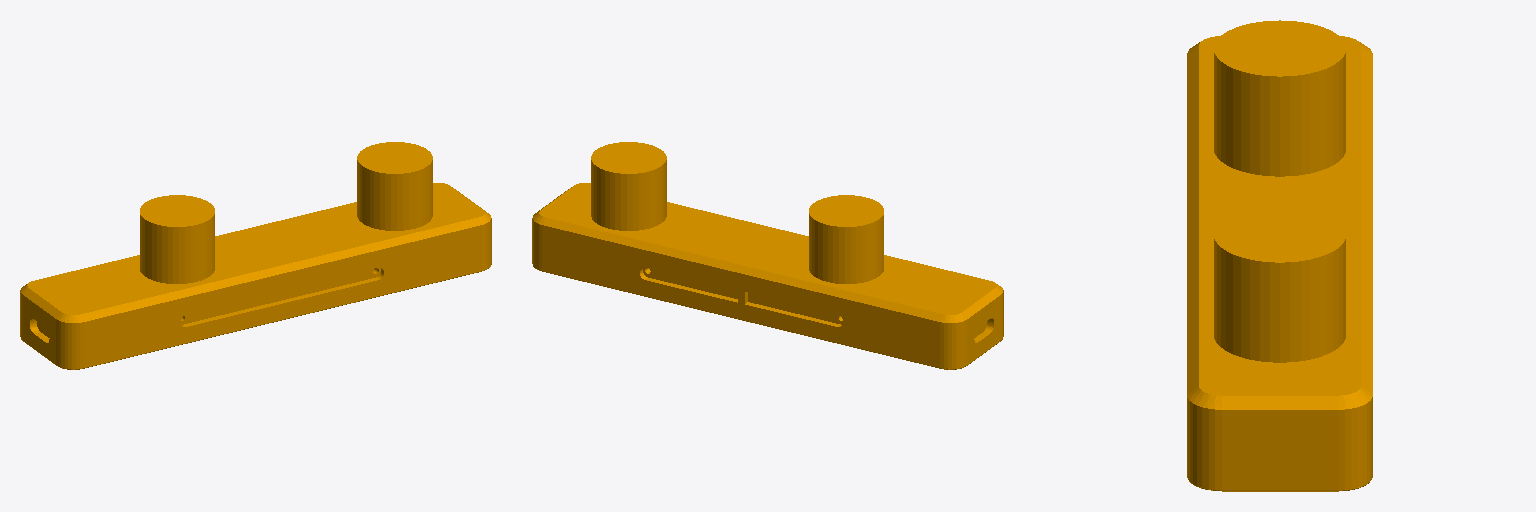
URDF robot description (zed_camera):
<?xml version="1.0" encoding="utf-8"?>

<robot name="zed_camera">
    <link name="zed_camera">
        <visual>
            <origin rpy="1.57079 0 0" xyz="0 0 -0.305"/>
            <geometry>
                <mesh filename="ZEDM.obj" scale="0.001 0.001 0.001"/>
            </geometry>
        </visual>
    </link>
</robot>

--- Render facts (derived) ---
The picture shows the robot from 3 angles, left to right: view 1: azimuth 30°, elevation 25°; view 2: azimuth 150°, elevation 25°; view 3: azimuth 270°, elevation 25°; orthographic projection.
Model zed_camera with 1 links and 0 joints (none), rooted at zed_camera, posed all joints at 0.
Visible links, largest first — view 1: zed_camera; view 2: zed_camera; view 3: zed_camera.
Link boxes in pixels (x1=…): zed_camera: x1=20, y1=142, x2=491, y2=369; zed_camera: x1=532, y1=142, x2=1003, y2=369; zed_camera: x1=1187, y1=20, x2=1372, y2=491.
Size in the robot's own frame: 0.1252 by 0.0266 by 0.0303 metres.
Meshes: 1 distinct files referenced, 1 mesh visuals loaded (1 OBJ).
